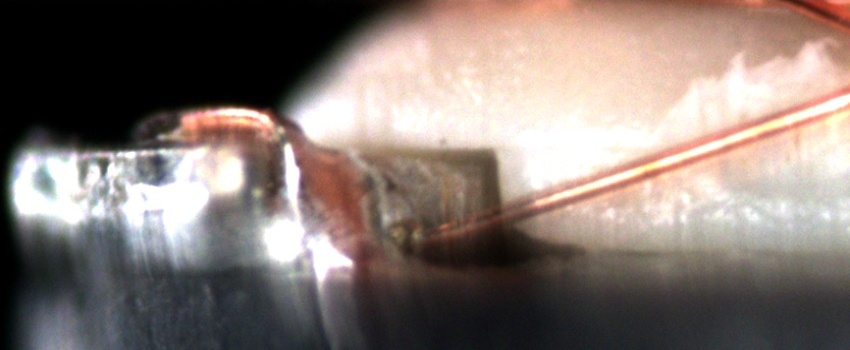TE: (170, 101, 303, 137)
